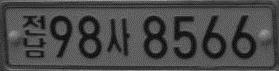5: (172, 15, 196, 60)
6: (201, 15, 227, 59), (231, 15, 257, 59)
8: (142, 14, 168, 59), (77, 15, 103, 59)
9: (49, 14, 72, 58)
사: (106, 17, 131, 56)
전남_V: (22, 14, 47, 58)
